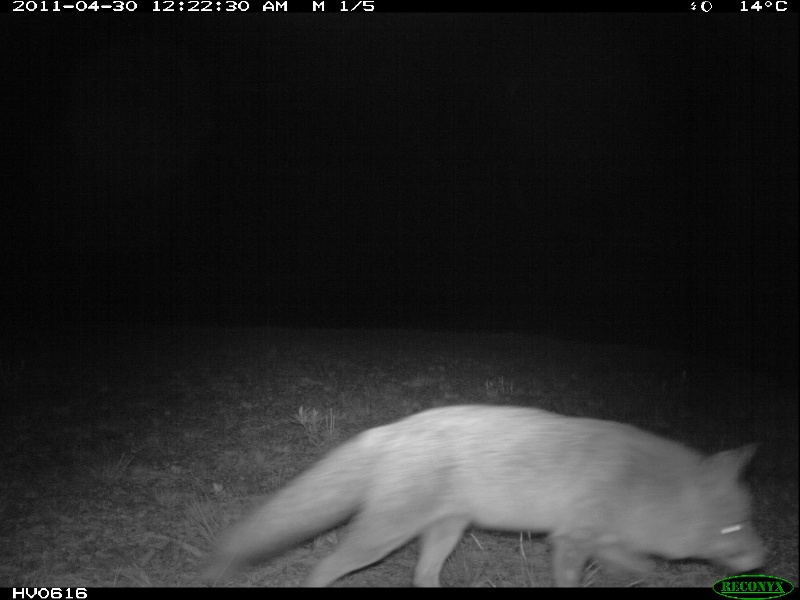fox: (207, 401, 780, 587)
